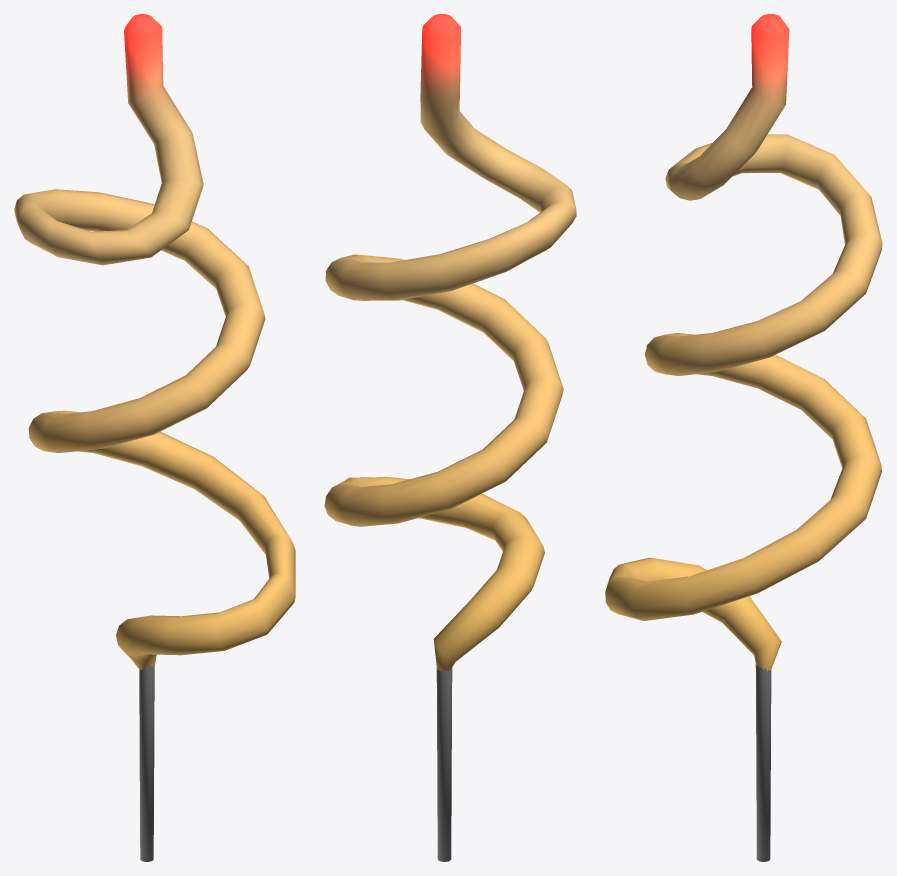
File: candle_bengala_1.glb
3 views of the same model, side by side, from view 1: azimuth 30°, elevation 25°; view 2: azimuth 150°, elevation 25°; view 3: azimuth 270°, elevation 25° (orthographic).
Parts seen in each view (by area): view 1: bengala_01; view 2: bengala_01; view 3: bengala_01.
Boxes of the visible parts, x1,y1,x2,y2 form: bengala_01: [14, 14, 295, 861]; bengala_01: [324, 14, 576, 861]; bengala_01: [605, 14, 882, 861].
Size of the model in its own units: 0.3045 by 1.06 by 0.3156.
1 material, 1 textured.
